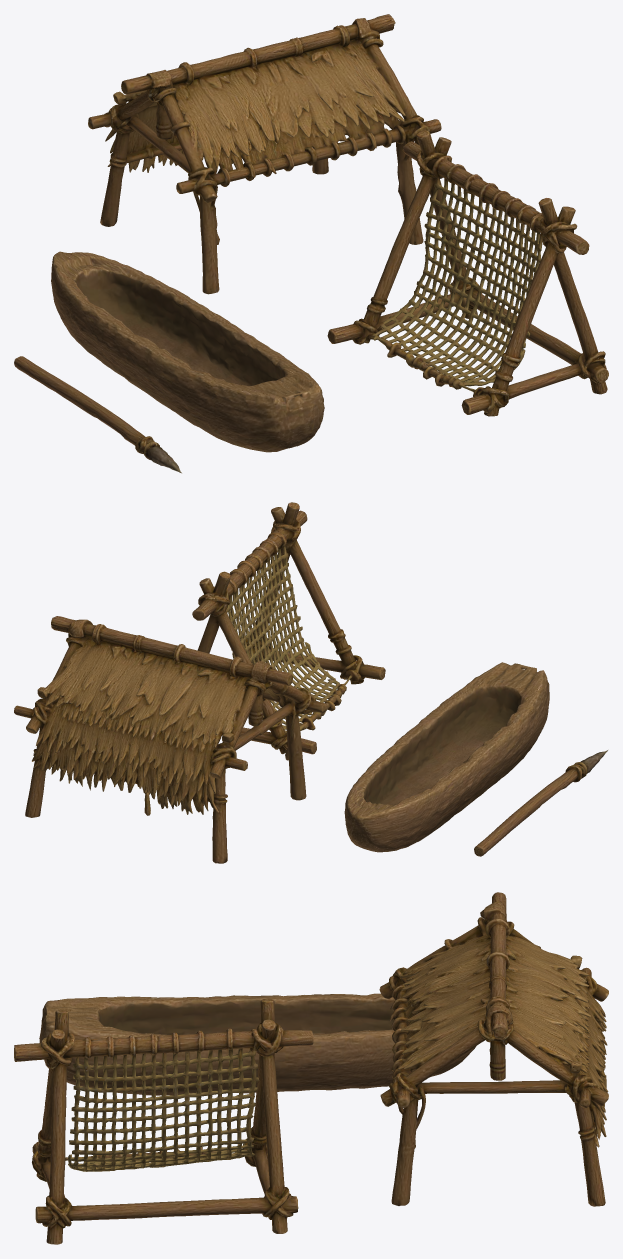
File: Fishing Post (West African).fbx
3 renders of one model, top to bottom at view 1: azimuth 30°, elevation 25°; view 2: azimuth 150°, elevation 25°; view 3: azimuth 270°, elevation 25°, orthographic. The views are drawn at different scales.
Parts seen in each view (by area): view 1: tripo_node_9b477261; view 2: tripo_node_9b477261; view 3: tripo_node_9b477261.
Boxes of the visible parts, box(x1,y1,x2,y2) form: tripo_node_9b477261: box(14, 14, 608, 473); tripo_node_9b477261: box(14, 502, 607, 863); tripo_node_9b477261: box(14, 892, 608, 1244).
Size of the model in its own units: 0.8658 by 0.4188 by 1.
